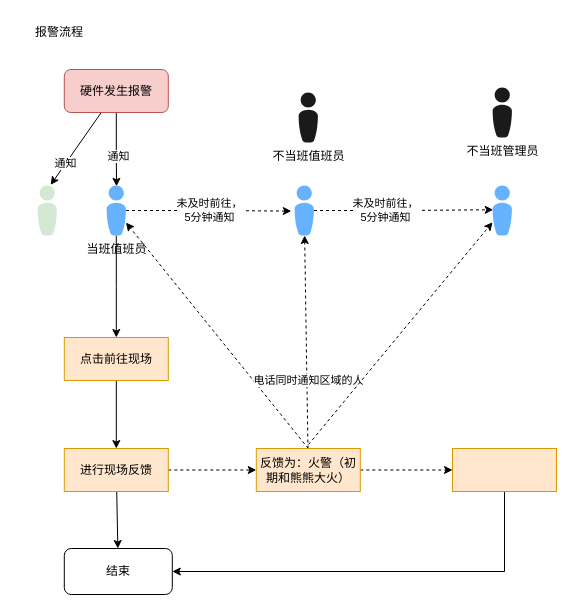
Image size: 574x612. Some labels were removed from this diagram. The centre of each missing label's shape, as x and y in pixels:
再次反馈已解决: (x=504, y=470)
当班管理员: (x=304, y=210)
当班超级管理员: (x=502, y=210)
紧急联系人: (x=46, y=210)
